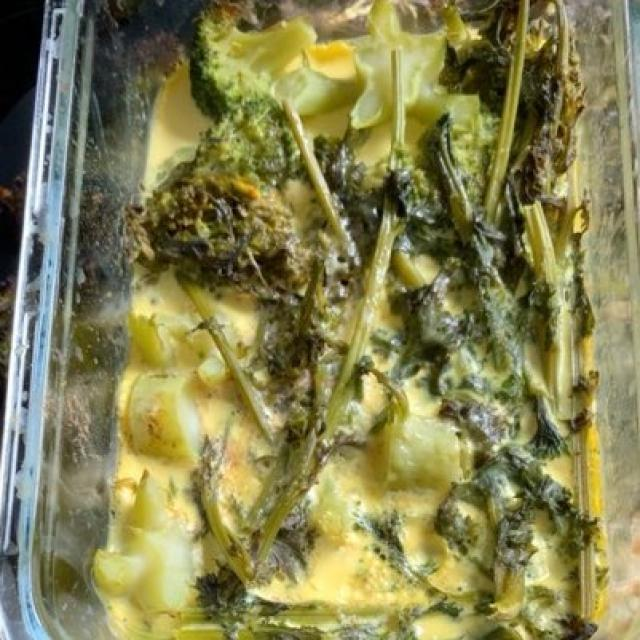broccoli: (153, 7, 581, 613)
egg: (112, 82, 544, 635)
